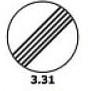road_sign: (6, 1, 78, 72)
